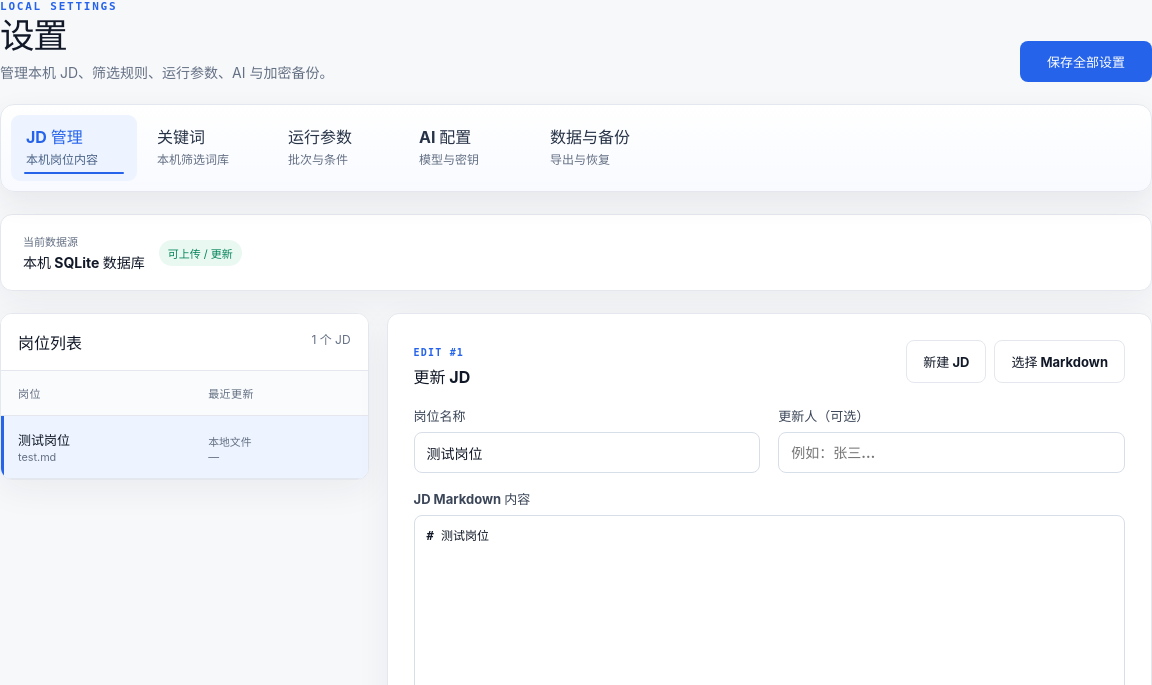
Test: SettingsPage › switches between all setting sections and saves editable configuration once
Expected: the text "本机 SQLite 数据库" is shown, [23,252,145,272]
What coordinates should you click on to do the following:
click the tab "运行参数 批次与条件"
I would click on:
 (336, 148)
Its box is [273,115,399,182].
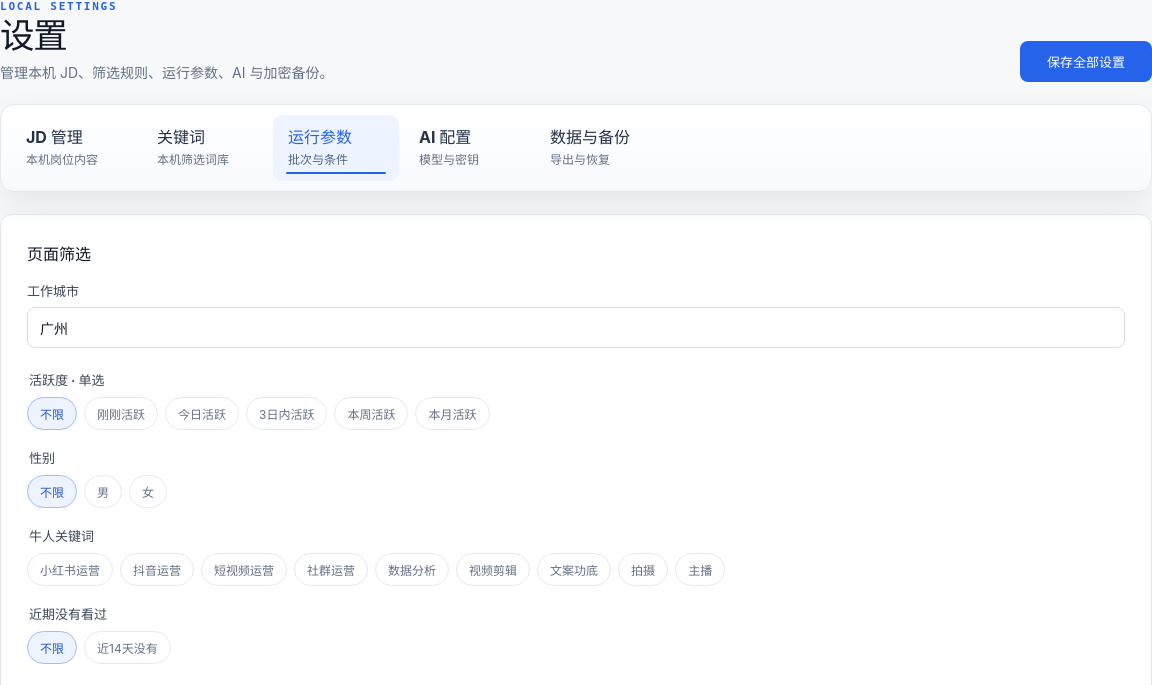
Expected: the heading "页面筛选" is shown, [27,244,91,264]
What coordinates should you click on to do the following:
click the button "保存全部设置"
I would click on:
 (1086, 61)
Its box is [1020,41,1151,82].
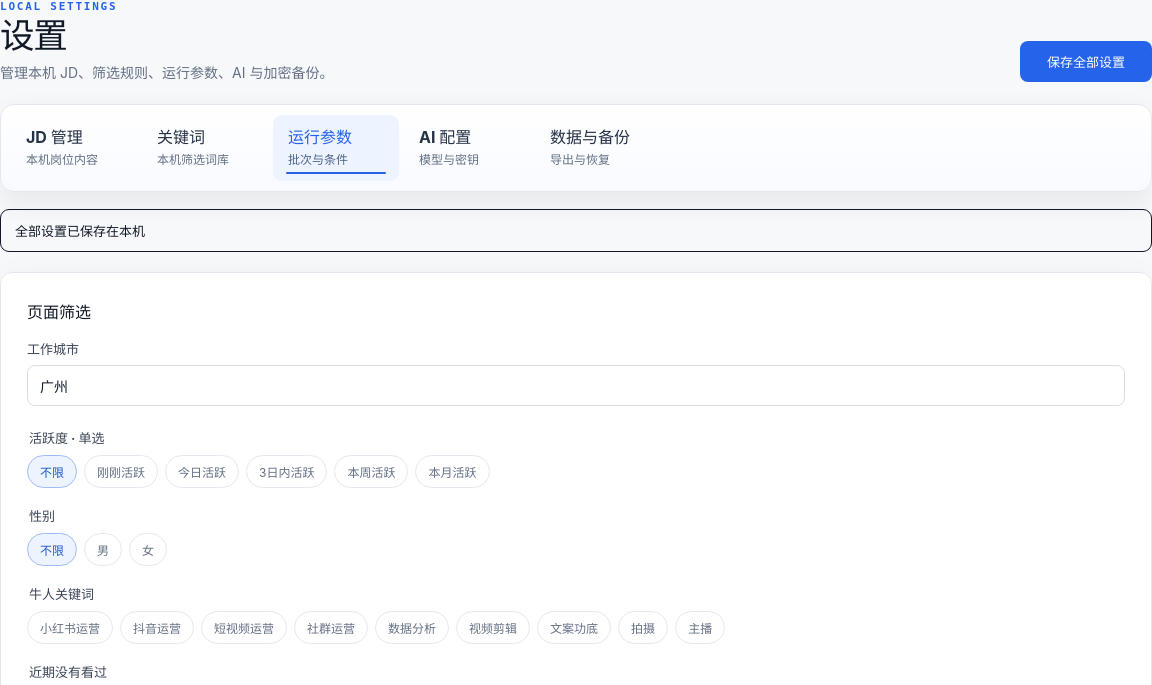
Expected: the text "全部设置已保存在本机" is shown, [0,209,1151,252]
